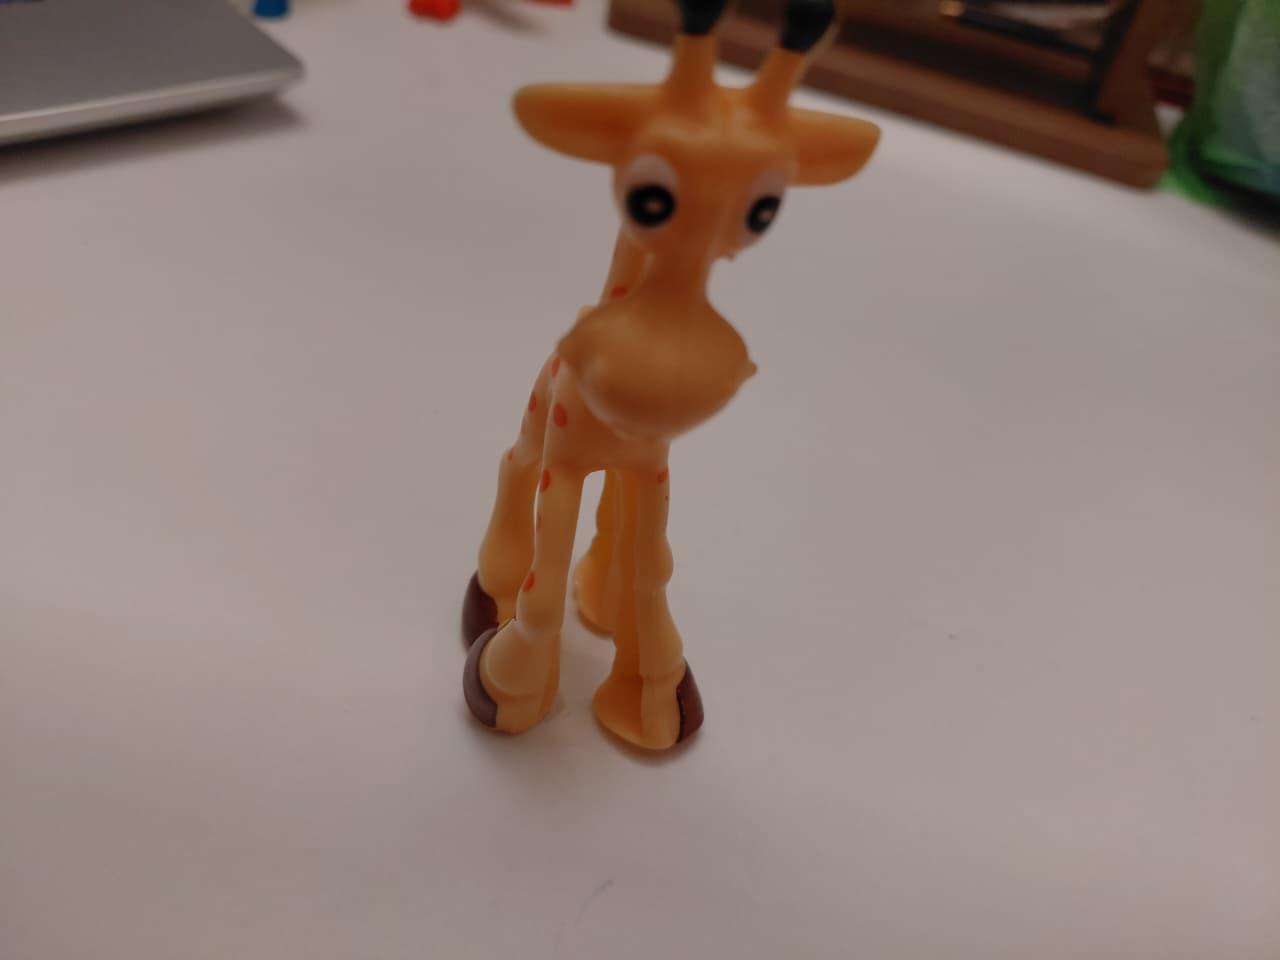giraffe: (456, 6, 883, 757)
